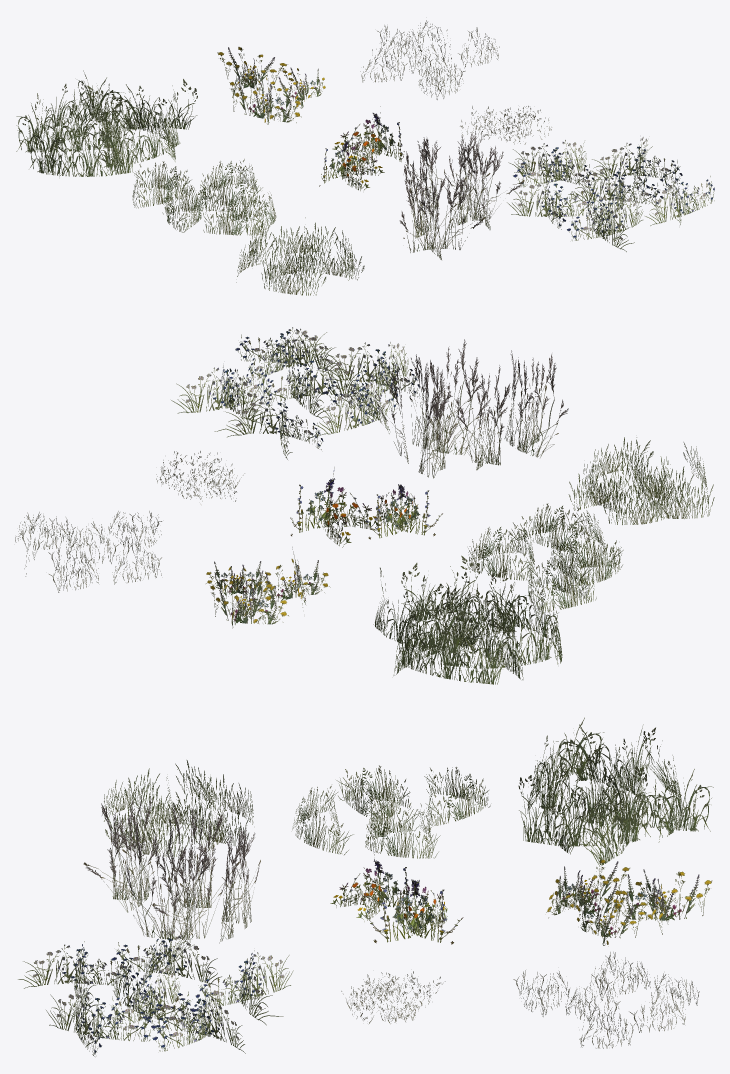
The model's file is rumput.glb.
3 renders of one model, top to bottom at view 1: azimuth 30°, elevation 25°; view 2: azimuth 150°, elevation 25°; view 3: azimuth 270°, elevation 25°, orthographic. The views are drawn at different scales.
Parts seen in each view (by area): view 1: Grass_Reeds_LOD0; view 2: Grass_Reeds_LOD0; view 3: Grass_Reeds_LOD0.
Boxes of the visible parts, x1,y1,x2,y2 form: Grass_Reeds_LOD0: [16, 20, 714, 295]; Grass_Reeds_LOD0: [15, 327, 714, 684]; Grass_Reeds_LOD0: [18, 717, 713, 1056].
Size of the model in its own units: 12.73 by 2.16 by 13.
2 materials, 2 textured.
